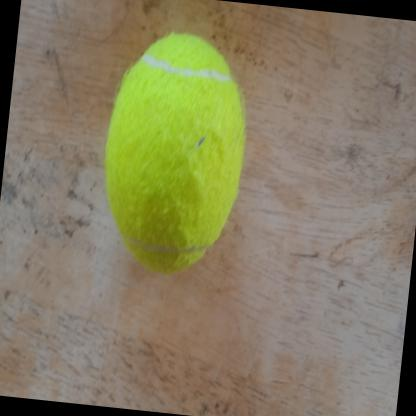Tennis: (90, 21, 260, 282)
